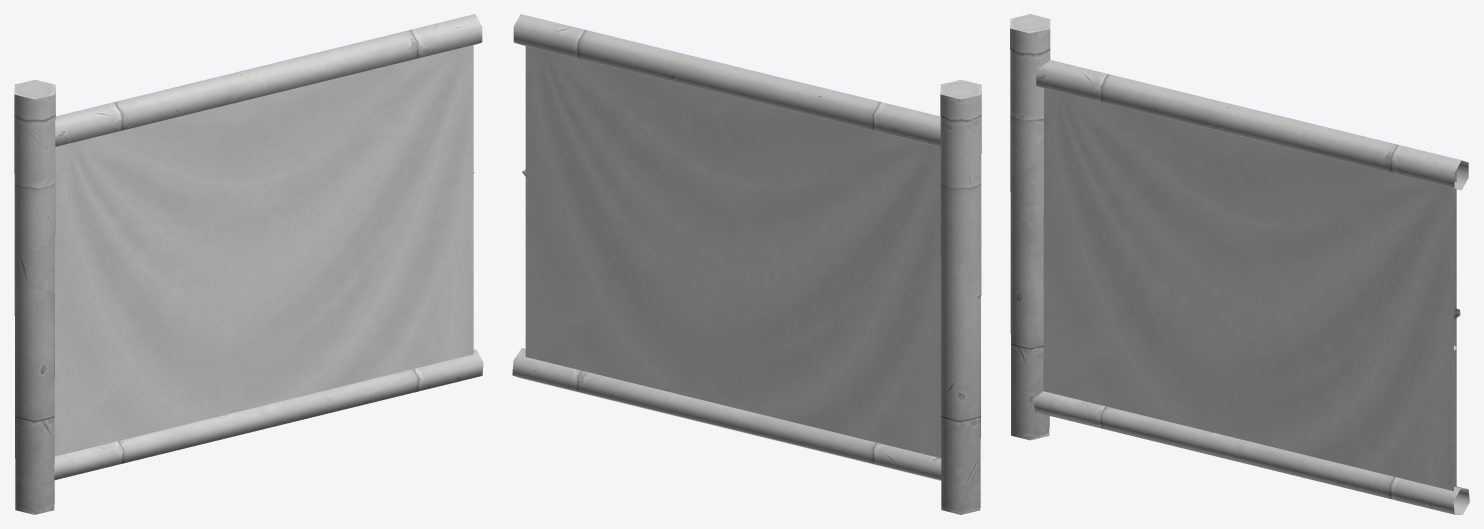
File: Pfb_Barbed_Blue.fbx
3 renders of one model, left to right at view 1: azimuth 30°, elevation 25°; view 2: azimuth 150°, elevation 25°; view 3: azimuth 330°, elevation 25°, orthographic. The views are drawn at different scales.
Parts seen in each view (by area): view 1: Mat_Fabric_01_1 2, Mat_BarbedWire_01; view 2: Mat_Fabric_01_1 2, Mat_BarbedWire_01; view 3: Mat_Fabric_01_1 2, Mat_BarbedWire_01.
Part boxes in pixels (x1,y1,x2,y2): Mat_Fabric_01_1 2: (54, 45, 473, 456); Mat_BarbedWire_01: (14, 14, 483, 514); Mat_Fabric_01_1 2: (525, 46, 941, 458); Mat_BarbedWire_01: (512, 14, 981, 514); Mat_Fabric_01_1 2: (1043, 88, 1456, 491); Mat_BarbedWire_01: (1010, 14, 1469, 514).
Size of the model in its own units: 2.32 by 2 by 0.179.
2 materials, 2 textured.
